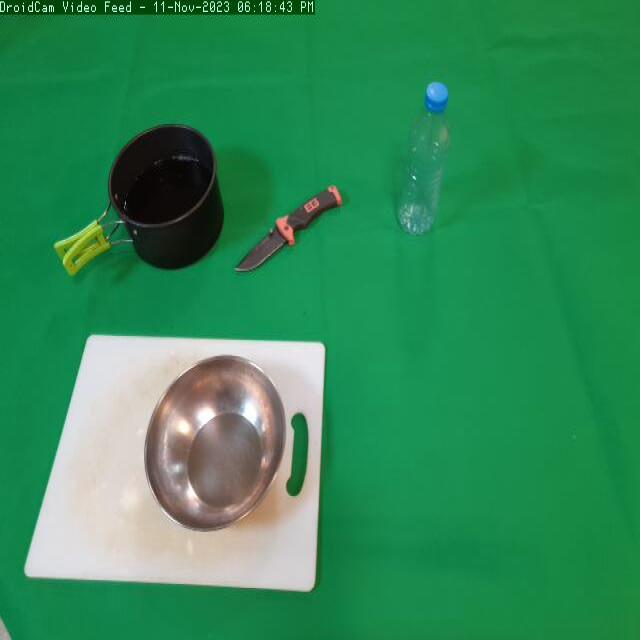bottle: (392, 72, 458, 255)
bowl: (141, 349, 292, 547)
cutting board: (8, 317, 352, 622)
fullpot: (54, 124, 230, 287)
knife: (232, 182, 345, 282)
